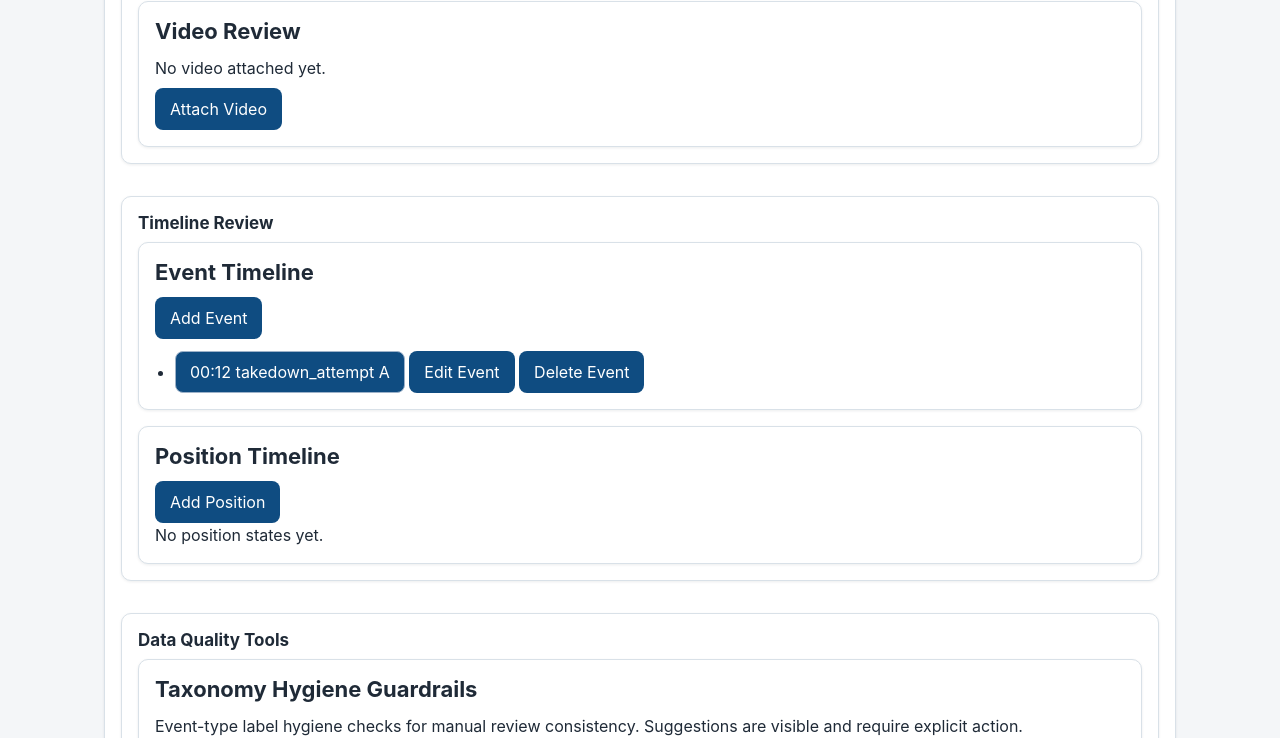
Test: Timeline events UI › handles event edit flow
(page scrolled)
Click the button "Edit Event" at (462, 372), box [409,351,515,393]
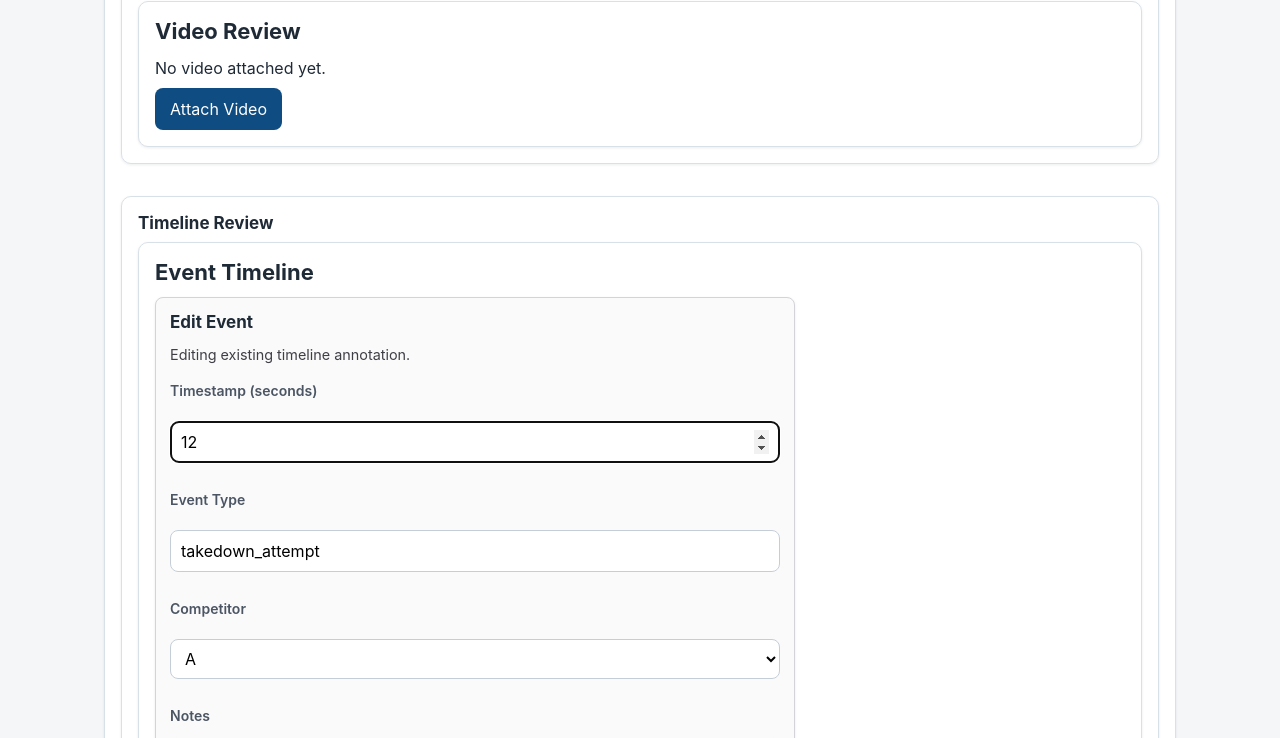
Replace the text in the field labelled "Event Type" with "takedown_completed" at (475, 551), box [170,530,780,572]
(page scrolled)
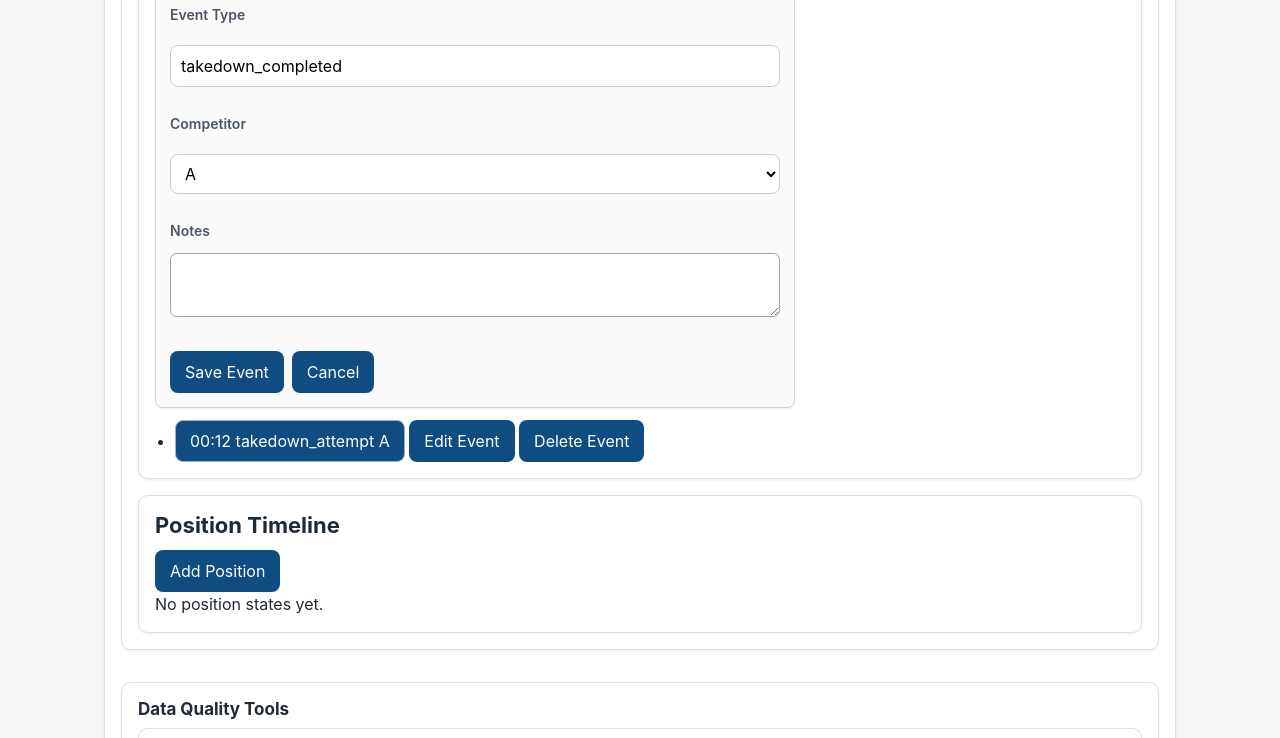
Click the button "Save Event" at (227, 372), box [170,351,284,393]
(page scrolled)
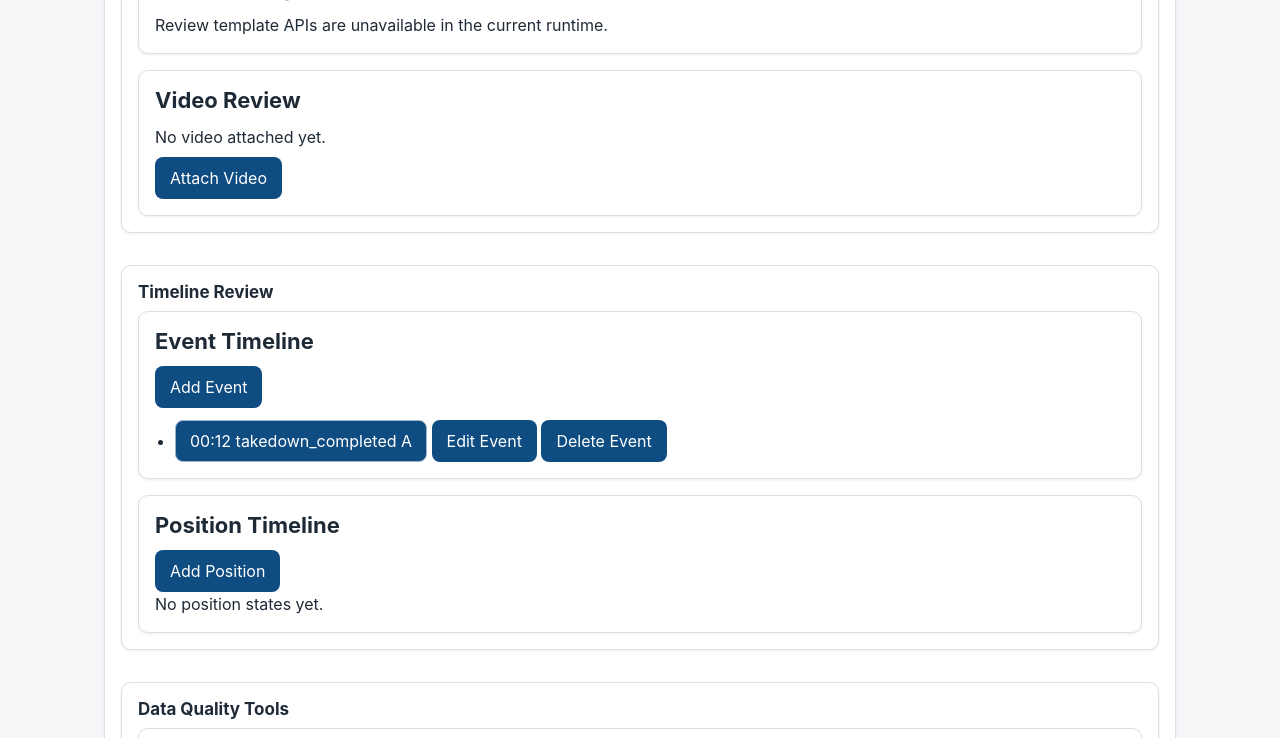
Result: the button "00:12 takedown_completed A" is shown at [175,420,427,462]
